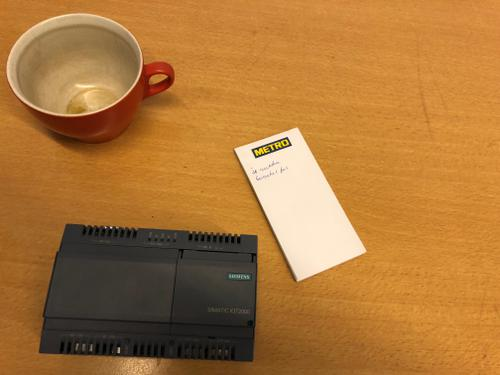device: (39, 224, 259, 362)
